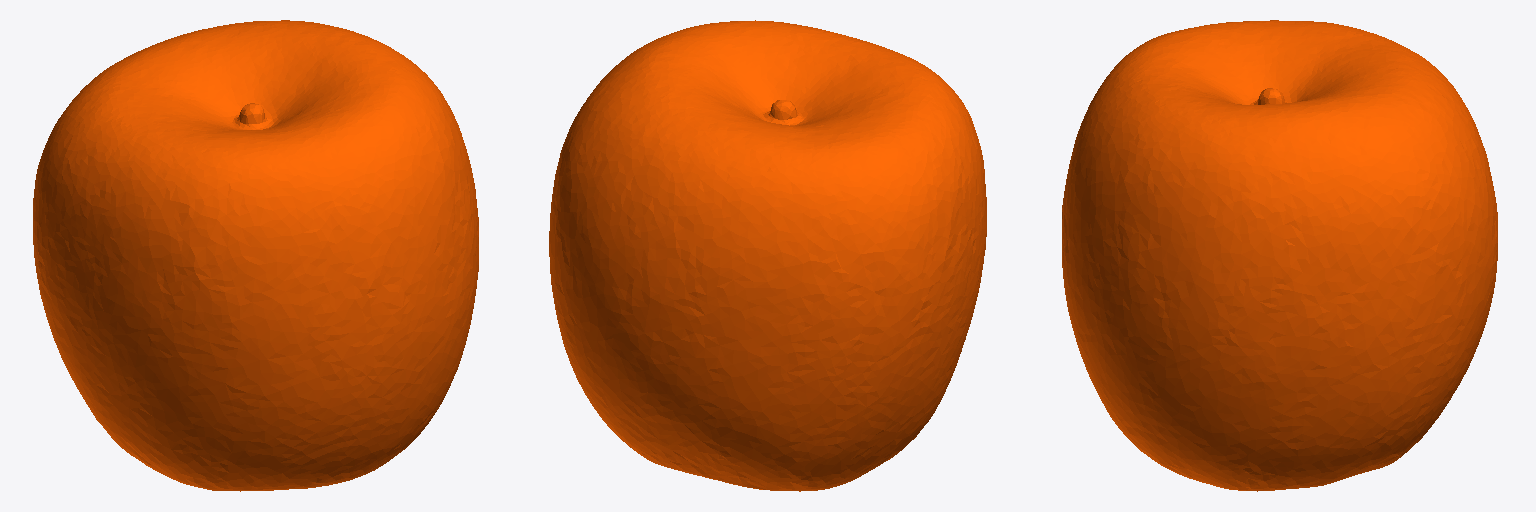
The robot description file, URDF, robot "013_apple":
<?xml version="1.0" ?>
<robot name="013_apple">
   <material name="obj_color">
      <color rgba="1.0 0.423529411765 0.0392156862745 1.0"/>
   </material>
   <link name="top">
      <inertial>
         <origin rpy="0.0002951423906364489 0.0002986500697335343 0.0003007937079201134" xyz="0.0007006601897980627 0.0001103573569422916 -0.007602287238503461"/>
         <mass value="0.4833269674713225"/>
         <inertia ixx="0.0002954248539296047" ixy="4.836553574779307e-07" ixz="8.231422575072355e-07" iyy="0.0003002394701967248" iyz="-1.018320628788283e-06" izz="0.0002989218441637673"/>
      </inertial>
      <visual>
         <origin rpy="0 0 0" xyz="0 0 0"/>
         <geometry>
            <mesh filename="top_watertight_tiny.stl" scale="1 1 1"/>
         </geometry>
         <material name="obj_color"/>
      </visual>
      <collision>
         <origin rpy="0 0 0" xyz="0 0 0"/>
         <geometry>
            <mesh filename="top_watertight_tiny.obj" scale="1 1 1"/>
         </geometry>
      </collision>
   </link>
   <link name="bottom">
      <inertial>
         <origin rpy="1.633333333199431e-08 1.633333333199431e-08 1.633333333362855e-08" xyz="0.3464080000000008 0.3464080000000008 0.3464080000000008"/>
         <mass value="0.0009800000000000017"/>
         <inertia ixx="1.633333333253906e-08" ixy="5.447480642029219e-19" ixz="5.447480642029219e-19" iyy="1.633333333253906e-08" iyz="5.447480642029219e-19" izz="1.633333333253906e-08"/>
      </inertial>
      <visual>
         <origin rpy="0 0 0" xyz="0 0 0"/>
         <geometry>
            <mesh filename="bottom_watertight_tiny.stl" scale="1 1 1"/>
         </geometry>
         <material name="obj_color"/>
      </visual>
   </link>
   <link name="world"/>
   <joint name="world_to_base" type="fixed">
      <origin xyz="0 0 0"/>
      <axis xyz="0 0 0"/>
      <parent link="world"/>
      <child link="bottom"/>
   </joint>
   <joint name="rotation" type="revolute">
      <origin xyz="0 0 0"/>
      <axis xyz="0 0 -1"/>
      <parent link="bottom"/>
      <child link="top"/>
      <dynamics damping="1.0" friction="1.0"/>
      <limit effort="0.1" velocity="0.1" lower="0" upper="0.001"/>
   </joint>
</robot>

--- Facts derived from the render (not from the file) ---
Views: 3 orthographic renders of the robot side by side, from view 1: azimuth 30°, elevation 25°; view 2: azimuth 150°, elevation 25°; view 3: azimuth 270°, elevation 25°.
Model 013_apple with 3 links and 2 joints (1 revolute, 1 fixed), rooted at world, posed every joint at zero.
Visible links, largest first — view 1: top; view 2: top; view 3: top.
Boxes of the visible links, x1,y1,x2,y2 form: top: (33,20,478,491); top: (549,20,986,491); top: (1062,20,1497,491).
Size in the robot's own frame: 0.0754 by 0.0749 by 0.0719 metres.
1 mesh visuals loaded from 2 distinct referenced files (1 binary STL); not drawn: 1 (reference not matched to a file when rendering).
